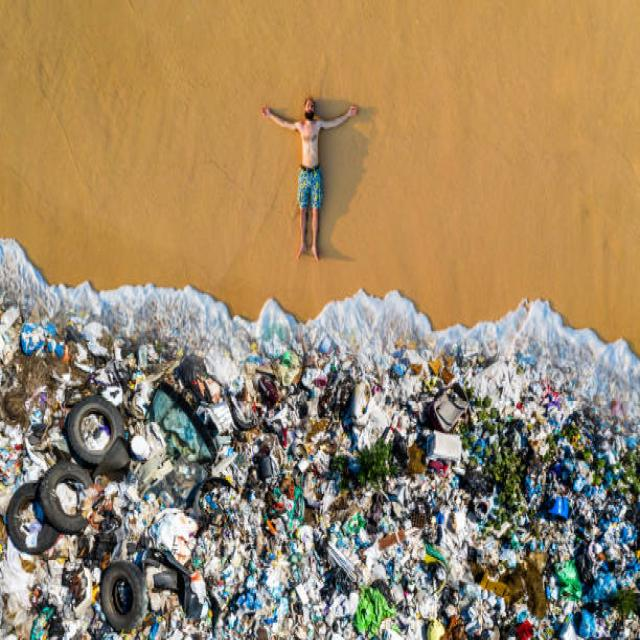trash: (2, 284, 623, 640)
